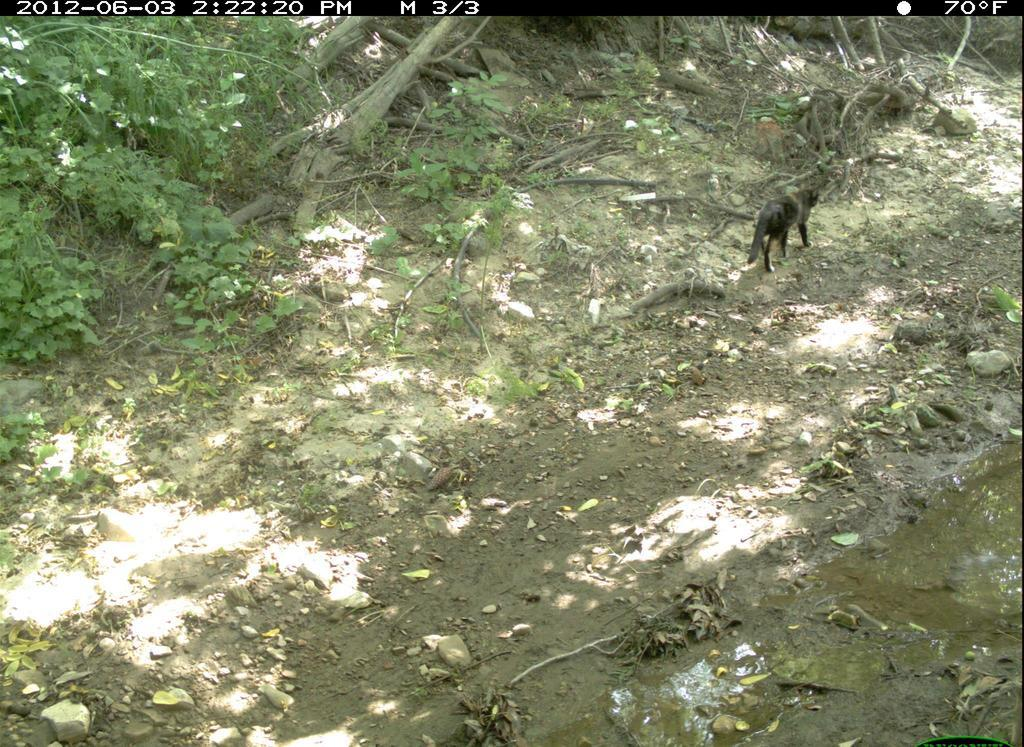cat: (747, 177, 840, 281)
